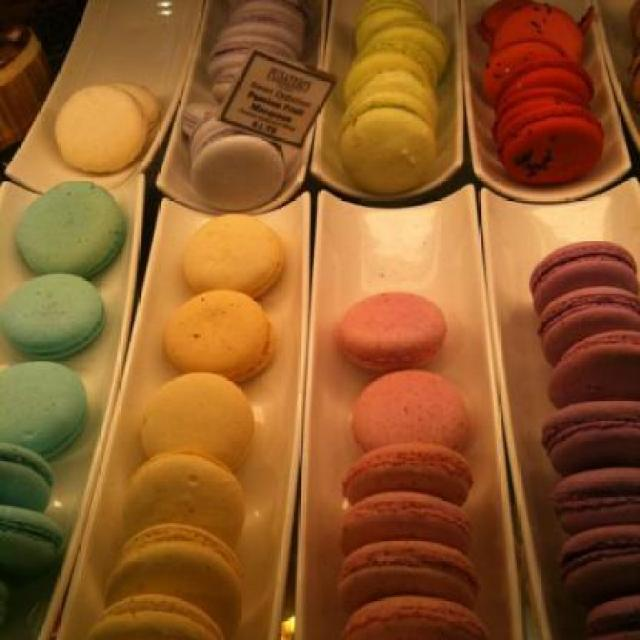Macaron: (2, 2, 640, 640)
